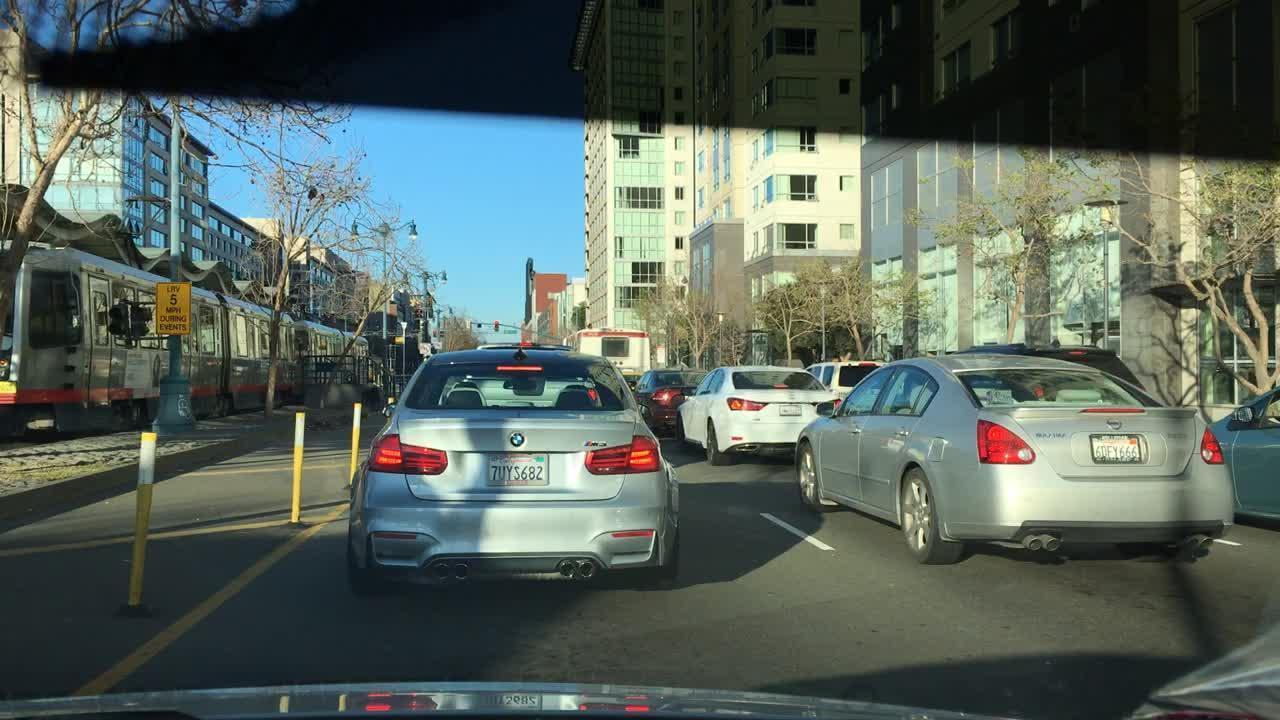Nissan: (1103, 416, 1128, 432)
bmw: (507, 416, 531, 456)
